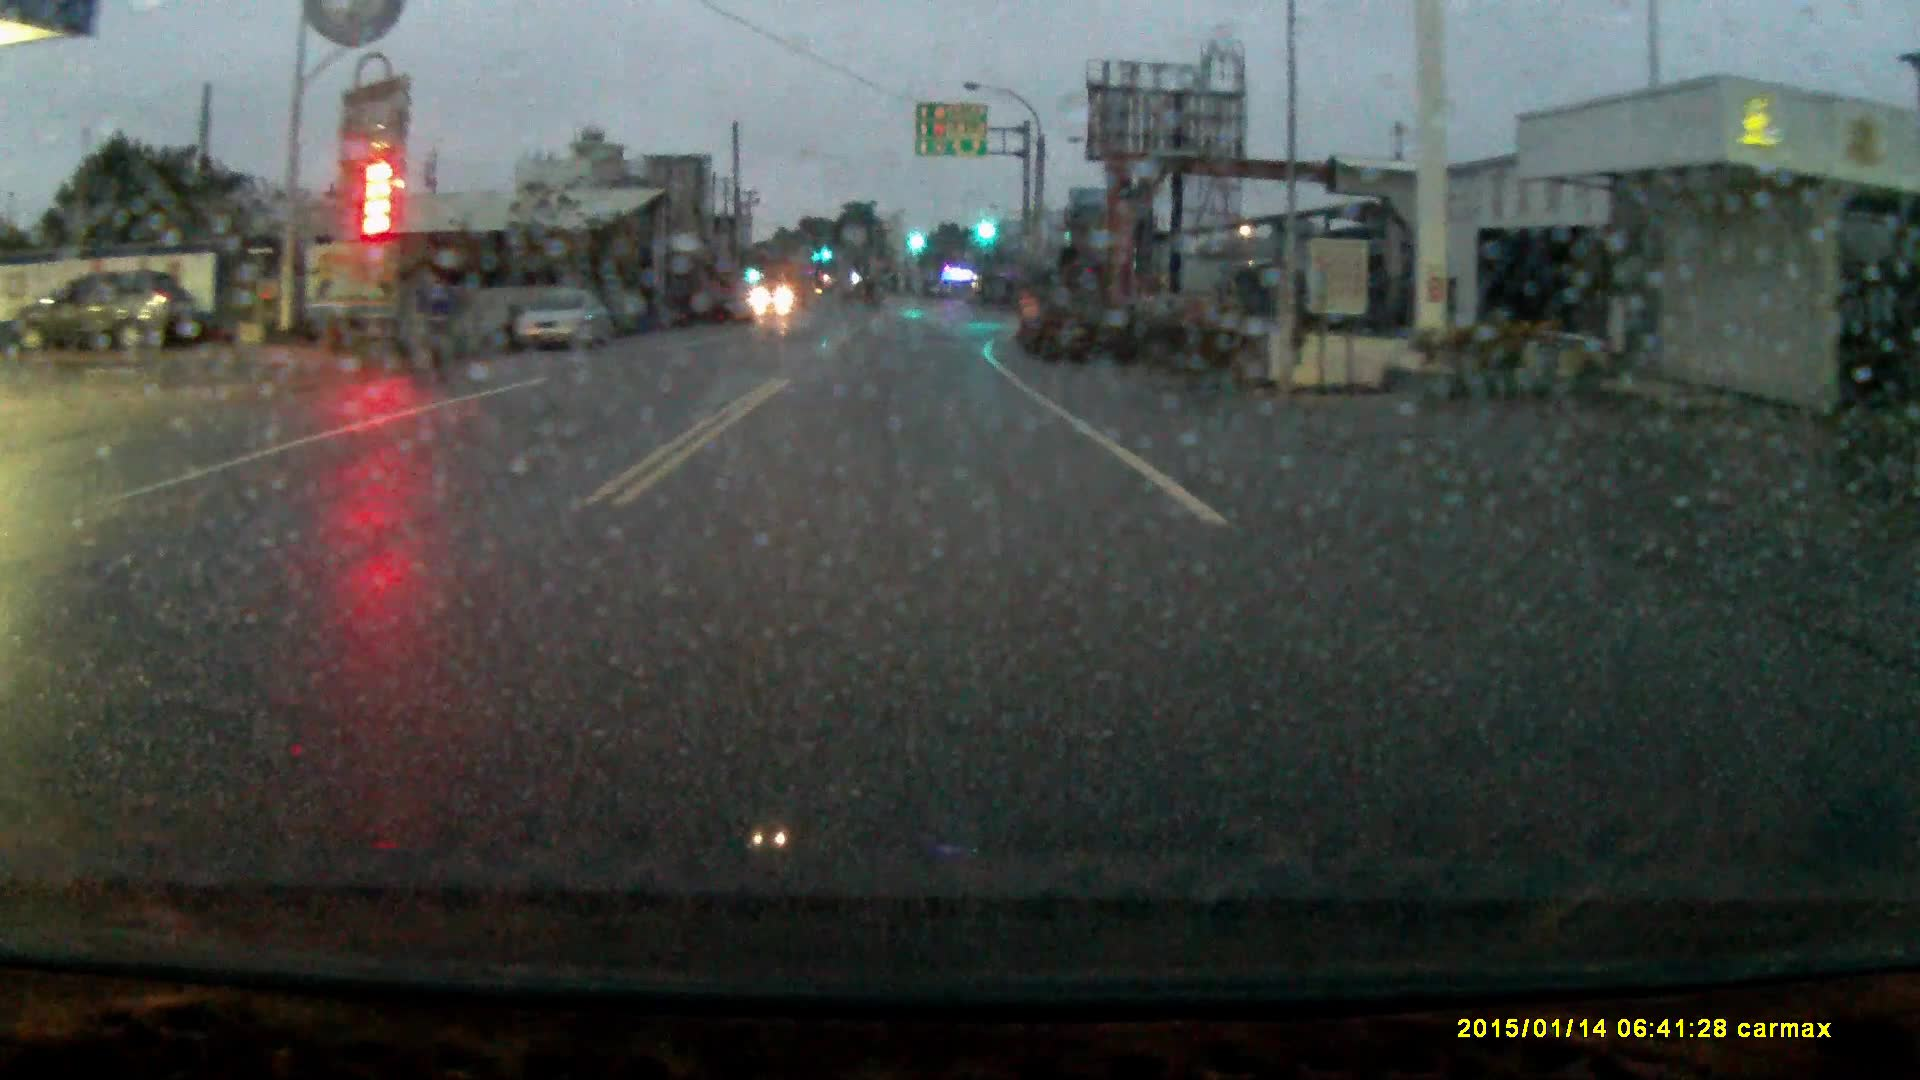rider: (370, 249, 475, 405)
vehicle: (2, 269, 198, 355), (1016, 266, 1106, 372), (511, 295, 626, 359)
